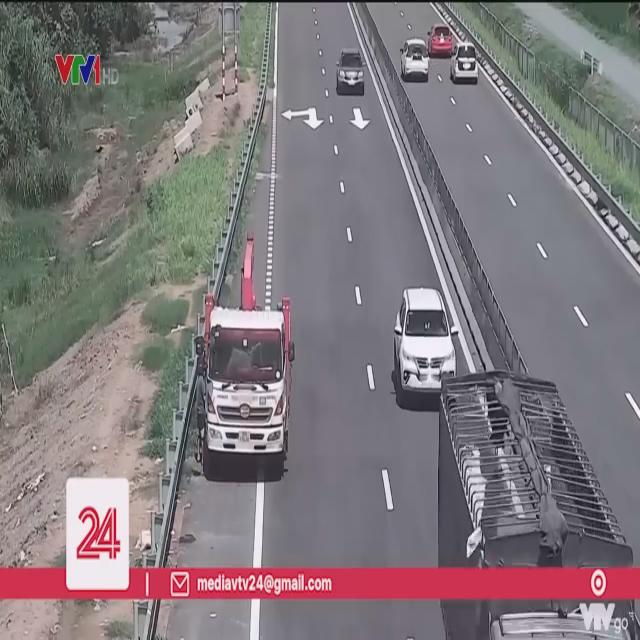car: (393, 288, 457, 406), (401, 38, 432, 80), (450, 40, 478, 85), (337, 49, 365, 94), (429, 26, 456, 60)
truck: (433, 374, 633, 564), (204, 291, 291, 479)
